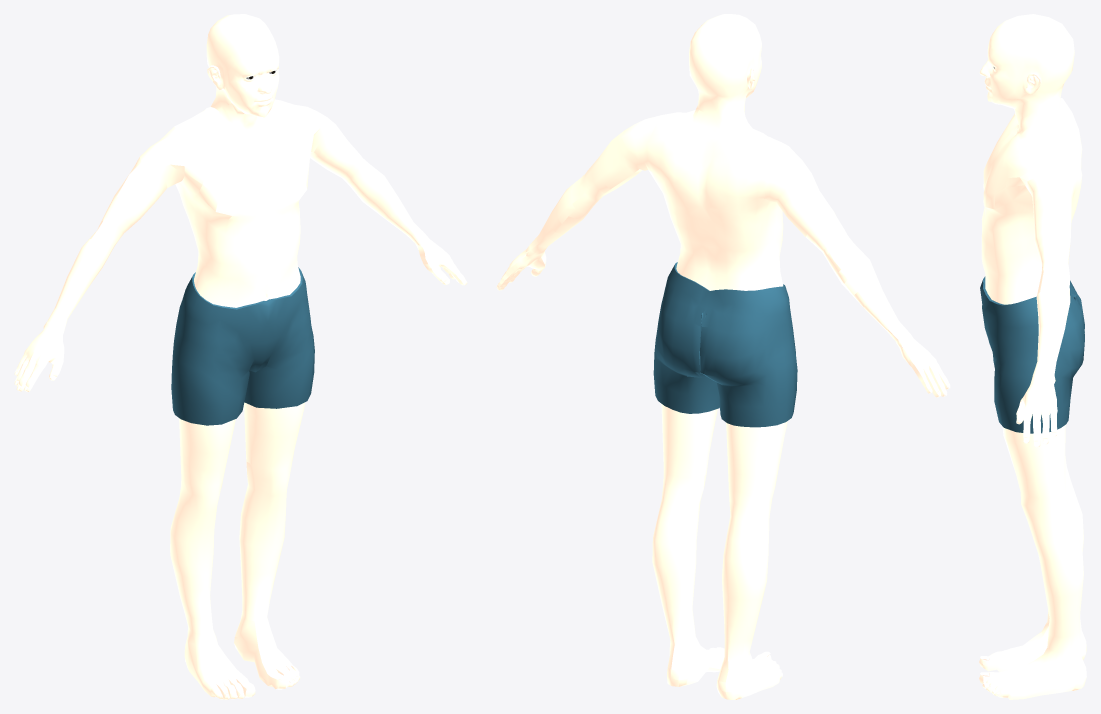
The model's file is male_teen_short.fbx.
3 views of the same model, side by side, from view 1: azimuth 30°, elevation 25°; view 2: azimuth 150°, elevation 25°; view 3: azimuth 270°, elevation 25° (orthographic).
Parts seen in each view (by area): view 1: male_teen_lo; view 2: male_teen_lo; view 3: male_teen_lo.
Boxes of the visible parts, <box> form: male_teen_lo: <box>14,14,467,699</box>; male_teen_lo: <box>496,14,950,699</box>; male_teen_lo: <box>979,14,1086,699</box>.
Size of the model in its own units: 11.52 by 16.32 by 2.4.
